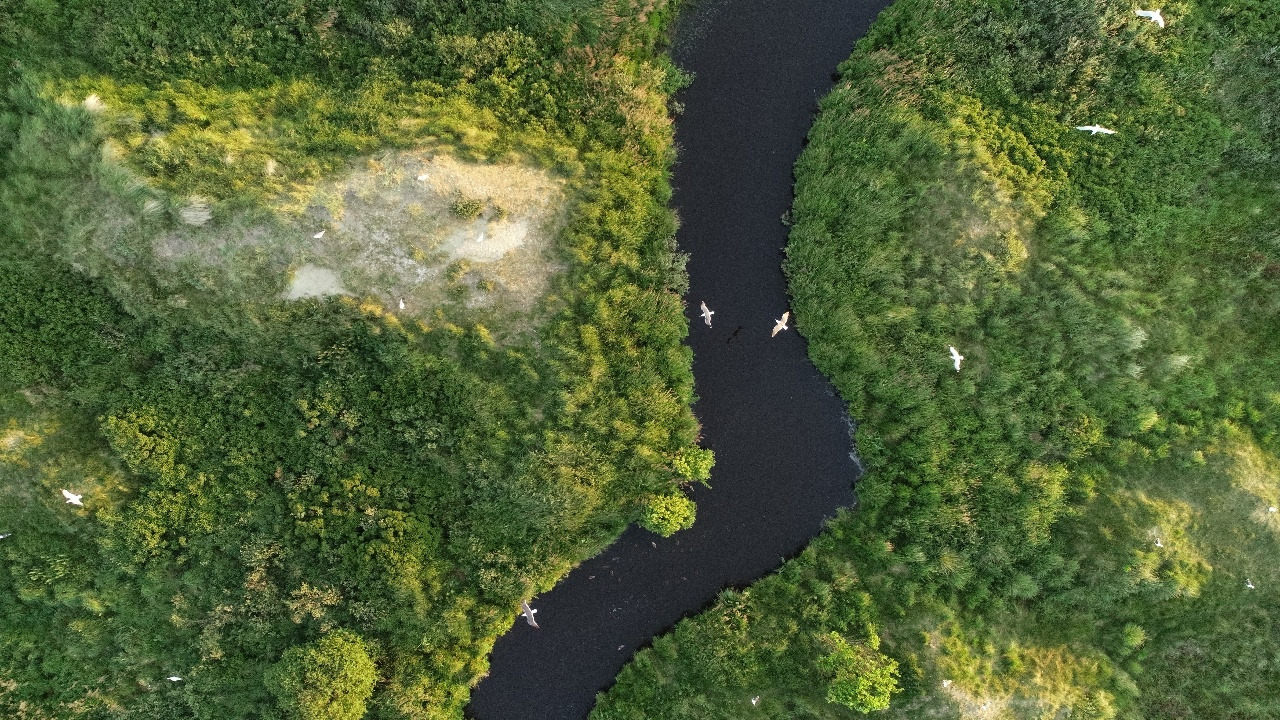Bird: (53, 477, 97, 521), (155, 656, 199, 700), (508, 591, 552, 635), (383, 279, 427, 323), (298, 212, 342, 256), (396, 157, 440, 201), (456, 213, 500, 257), (685, 294, 729, 338), (755, 301, 799, 345), (936, 335, 980, 379), (1073, 104, 1117, 148), (1224, 561, 1270, 601), (1131, 522, 1177, 562), (927, 661, 973, 701), (729, 679, 775, 719), (1131, 1, 1177, 40)
